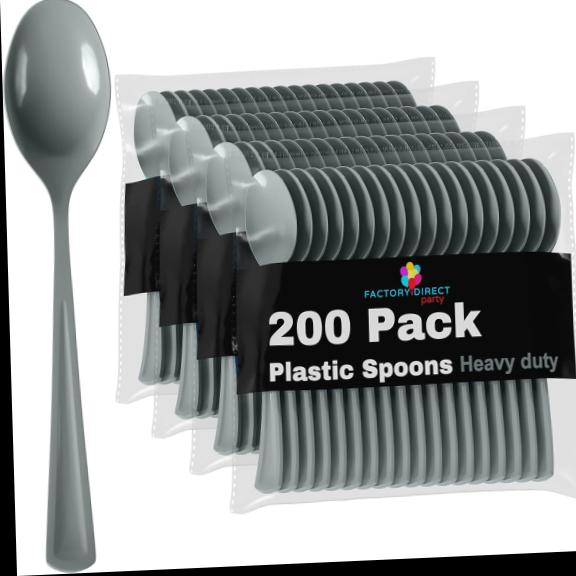Plastik: (4, 0, 110, 567)
